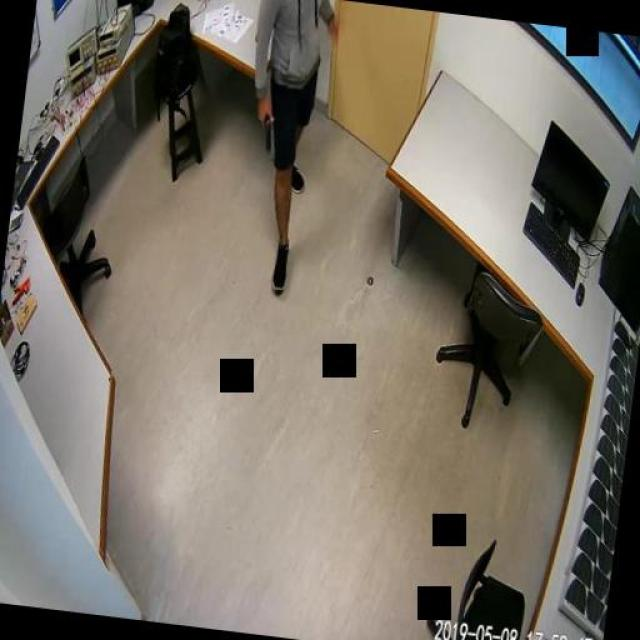gun: (255, 106, 275, 152)
